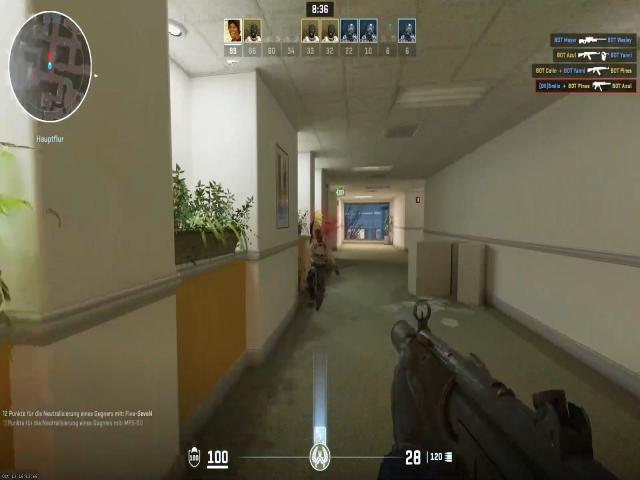Dead: (308, 230, 332, 298)
